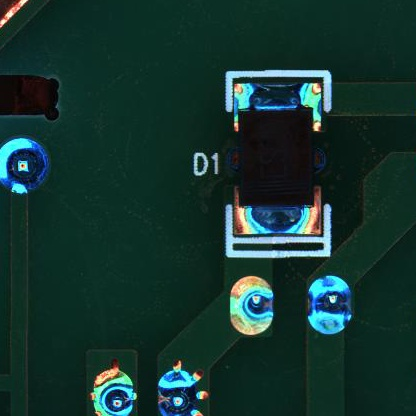spot: (1, 136, 52, 195), (155, 360, 207, 416), (230, 275, 276, 338), (307, 277, 354, 336), (90, 360, 135, 415)
